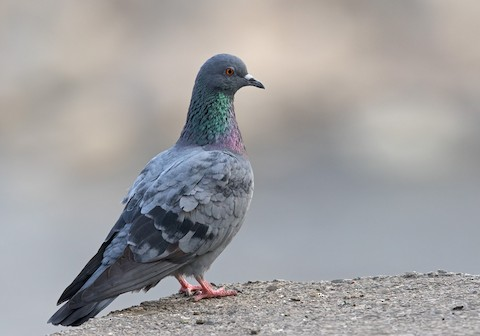pigeon: (47, 52, 266, 328)
